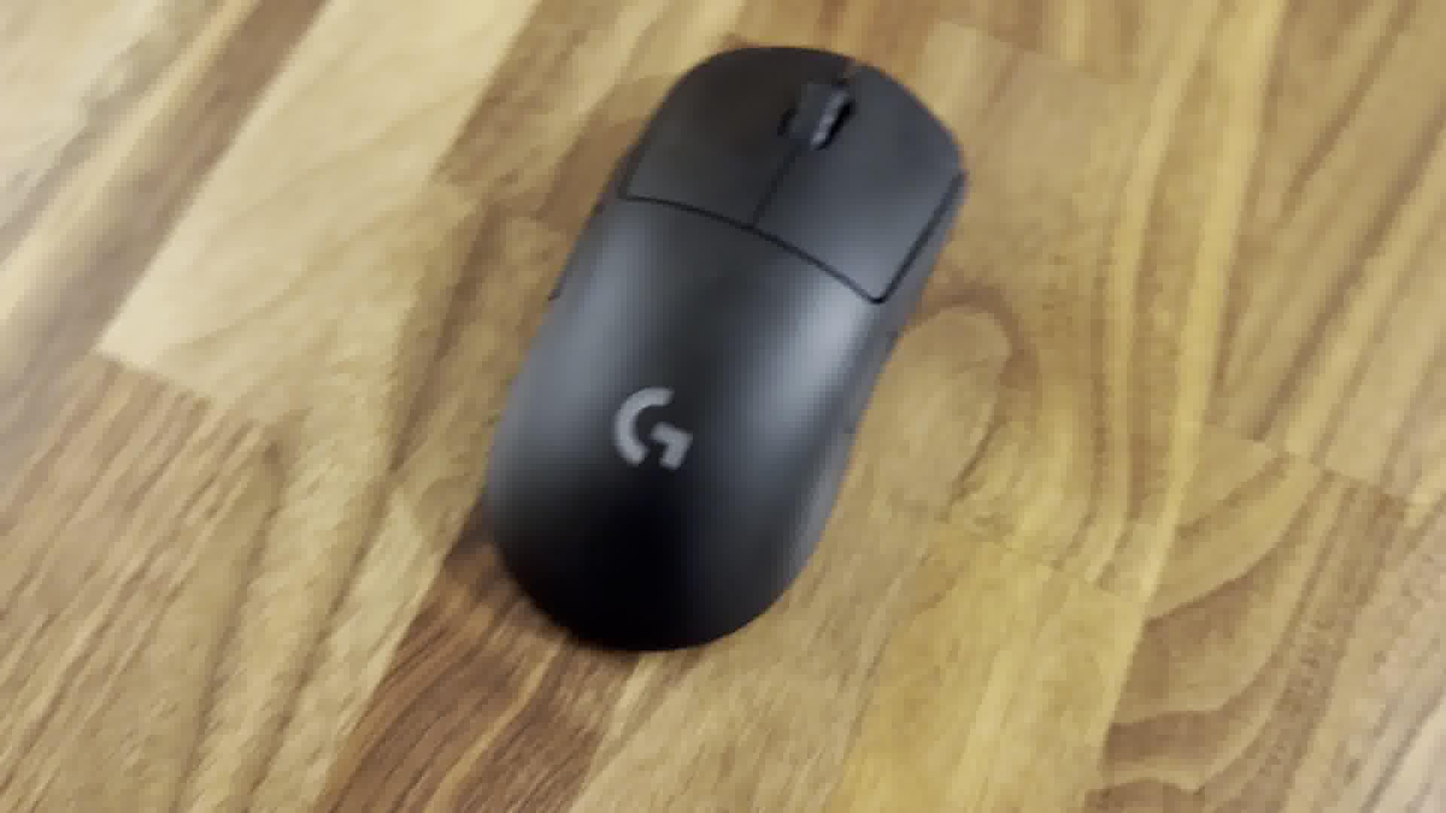mouse: (477, 39, 965, 658)
